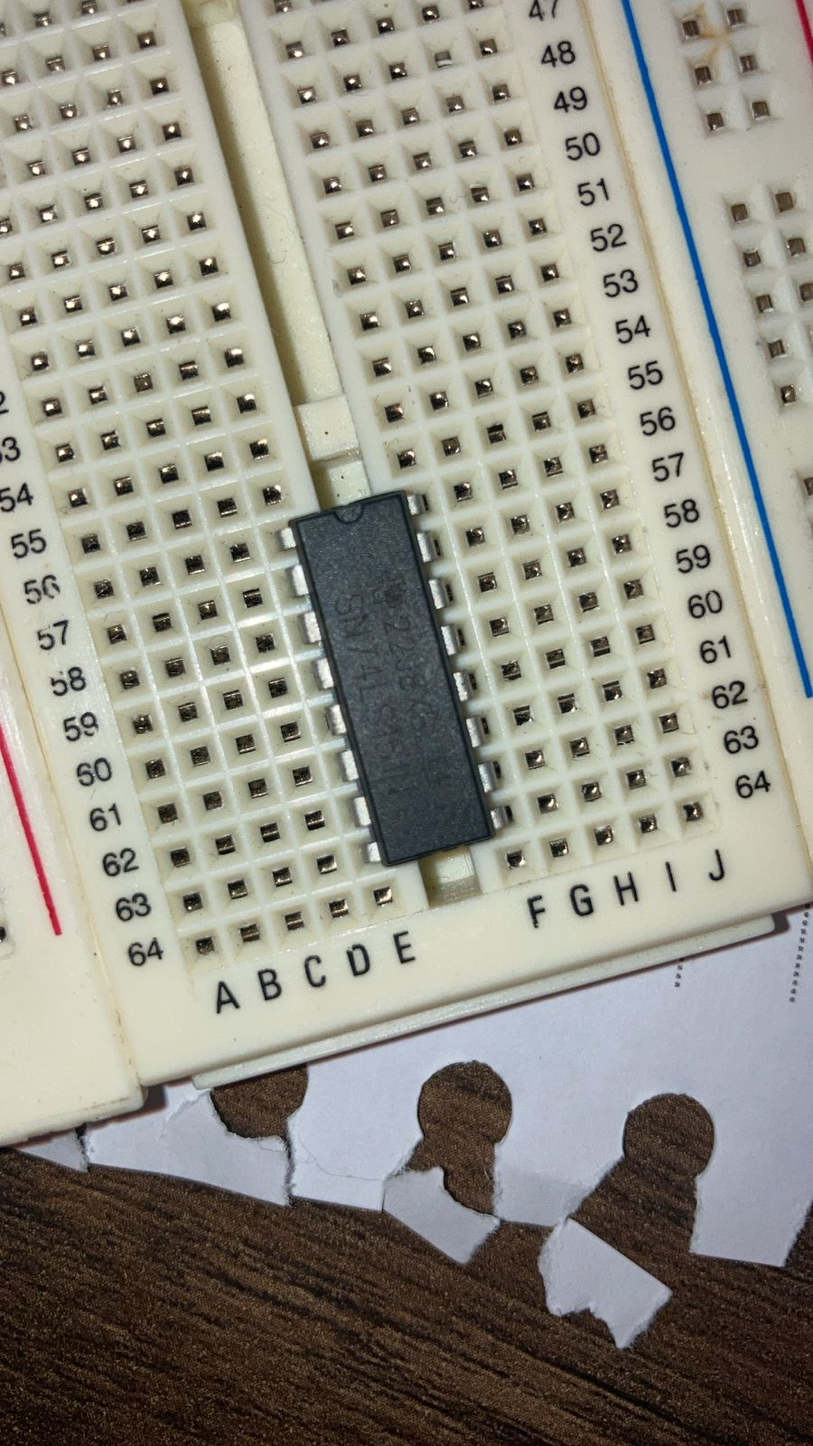IC: (273, 479, 518, 876)
notch: (329, 502, 370, 527)
